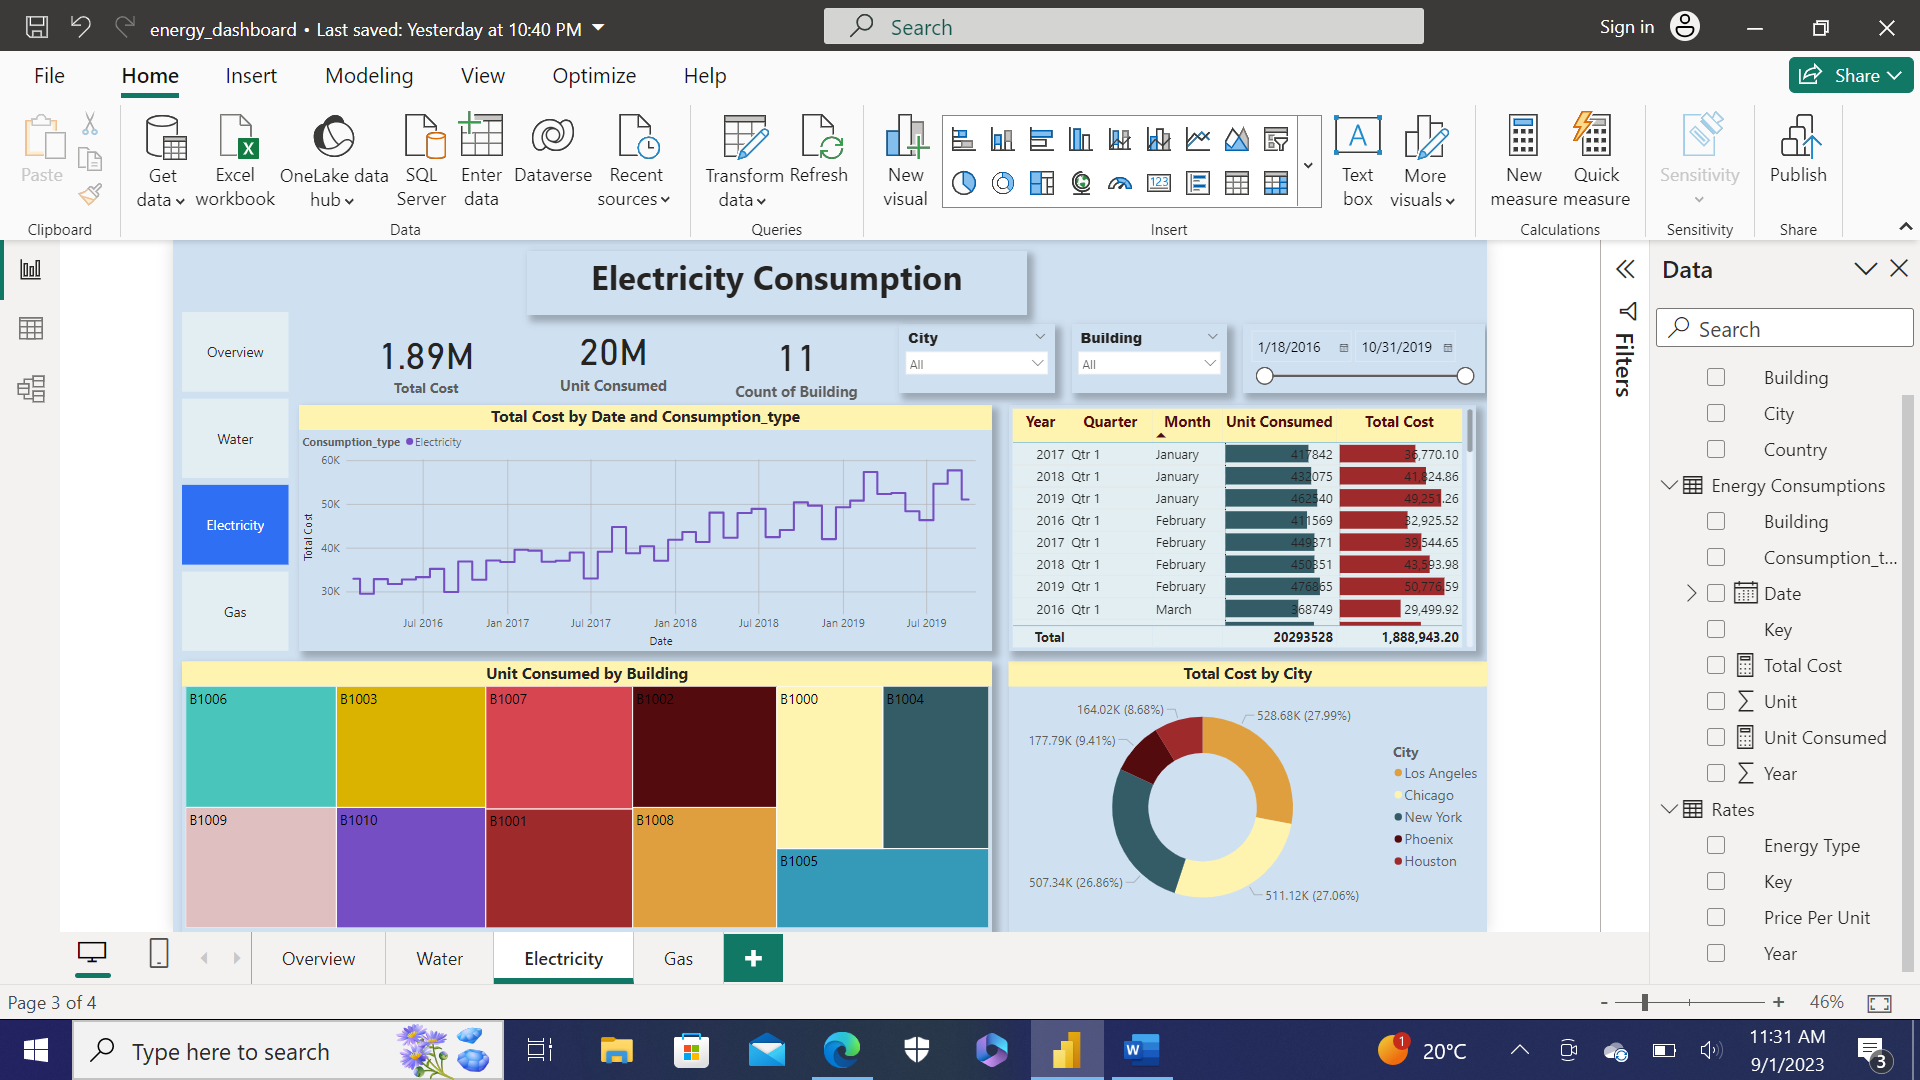

The page's visual inventory and layout, read from the dashboard file:
{"tool":"powerbi","page":{"name":"Electricity","canvas":[1900,1000],"ordinal":2},"visuals":[{"type":"lineChart","fields":{"Category":["Energy Consumptions.Date"],"Y":["Energy Consumptions.Total Cost"],"Series":["Energy Consumptions.Consumption_type"]},"box":[182.2,238.6,1002.2,355.7],"z":0},{"type":"donutChart","fields":{"Y":["Energy Consumptions.Total Cost"],"Category":["Building Master.City"]},"box":[1208.2,609.5,692,390.5],"z":1000},{"type":"treemap","fields":{"Values":["Energy Consumptions.Unit Consumed"],"Group":["Energy Consumptions.Building"]},"box":[13,609.5,1171.4,390.5],"z":2000},{"type":"tableEx","fields":{"Values":["Energy Consumptions.Date.Variation.Date Hierarchy.Year","Energy Consumptions.Date.Variation.Date Hierarchy.Quarter","Energy Consumptions.Date.Variation.Date Hierarchy.Month","Energy Consumptions.Unit Consumed","Energy Consumptions.Total Cost"]},"box":[1208.2,238.6,676.8,355.7],"z":3000},{"type":"card","fields":{"Values":["Energy Consumptions.Total Cost"]},"box":[240.8,108.5,250,130.2],"z":4000},{"type":"card","fields":{"Values":["Energy Consumptions.Unit Consumed"]},"box":[511.9,104.1,249.5,130.2],"z":5000},{"type":"slicer","fields":{"Values":["Energy Consumptions.Building"]},"box":[1298.3,122.2,225,100],"z":6000},{"type":"slicer","fields":{"Values":["Building Master.City"]},"box":[1049.9,122.2,225,100],"z":7000},{"type":"slicer","fields":{"Values":["Energy Consumptions.Date"]},"box":[1546.6,122.2,350,100],"z":8000},{"type":"pageNavigator","box":[13,104.1,154,490.2],"z":9000},{"type":"actionButton","title":"Electricity Consumption","box":[511.9,15.2,722.3,93.3],"z":10000},{"type":"card","fields":{"Values":["Count(Building Master.Building)"]},"box":[776.6,117.1,249.5,121.5],"z":11000}]}

Visuals, with their boxes on the page's 1900x1000 design canvas (x1, y1, x2, y2). These are canvas units, not pixel positions in the 1920x1080 screenshot, which may show the page scaled, cropped or inside an application window:
lineChart - Energy Consumptions.Date x Energy Consumptions.Total Cost: [left=182, top=239, right=1184, bottom=594]
donutChart - Energy Consumptions.Total Cost x Building Master.City: [left=1208, top=610, right=1900, bottom=1000]
treemap - Energy Consumptions.Unit Consumed x Energy Consumptions.Building: [left=13, top=610, right=1184, bottom=1000]
tableEx - Energy Consumptions.Date.Variation.Date Hierarchy.Year x Energy Consumptions.Date.Variation.Date Hierarchy.Quarter: [left=1208, top=239, right=1885, bottom=594]
card - Energy Consumptions.Total Cost: [left=241, top=108, right=491, bottom=239]
card - Energy Consumptions.Unit Consumed: [left=512, top=104, right=761, bottom=234]
slicer - Energy Consumptions.Building: [left=1298, top=122, right=1523, bottom=222]
slicer - Building Master.City: [left=1050, top=122, right=1275, bottom=222]
slicer - Energy Consumptions.Date: [left=1547, top=122, right=1897, bottom=222]
pageNavigator: [left=13, top=104, right=167, bottom=594]
"Electricity Consumption" actionButton: [left=512, top=15, right=1234, bottom=108]
card - Count(Building Master.Building): [left=777, top=117, right=1026, bottom=239]
